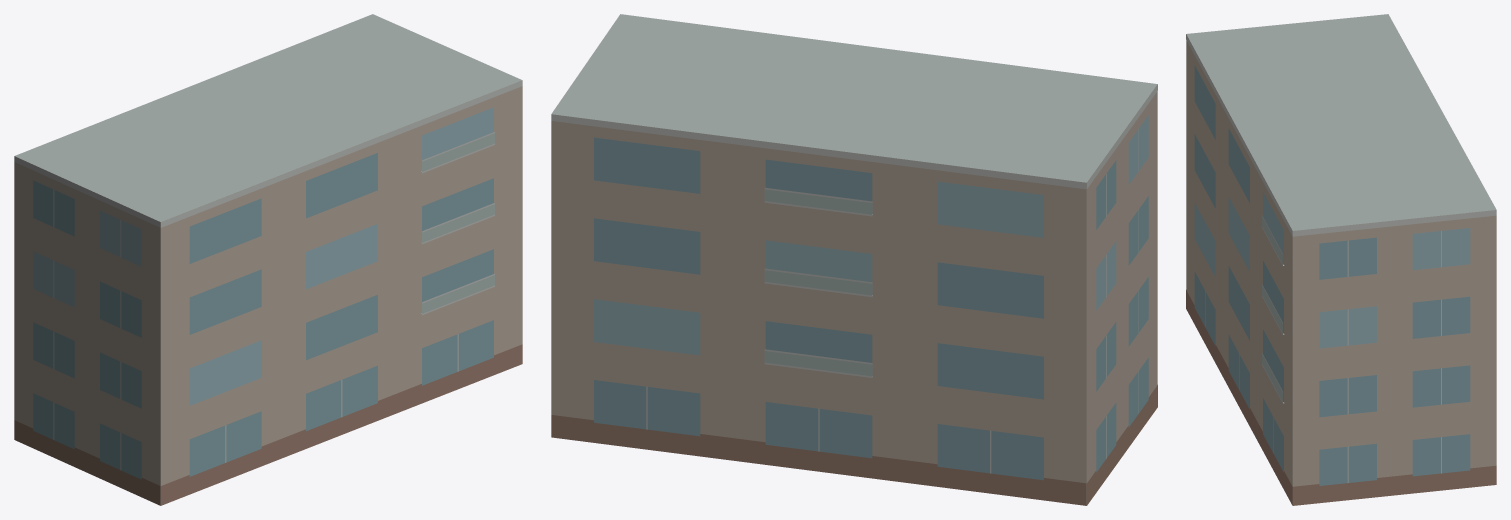
The model's file is survey-upis-32509308.glb.
The picture shows the model from 3 angles, left to right: view 1: azimuth 30°, elevation 25°; view 2: azimuth 150°, elevation 25°; view 3: azimuth 270°, elevation 25°; orthographic projection. The views are drawn at different scales.
Parts seen in each view (by area): view 1: survey-upis-32509308.tmp; view 2: survey-upis-32509308.tmp; view 3: survey-upis-32509308.tmp.
Part boxes in pixels (x1,y1,x2,y2): survey-upis-32509308.tmp: (14, 14, 522, 505); survey-upis-32509308.tmp: (551, 14, 1157, 505); survey-upis-32509308.tmp: (1186, 14, 1496, 505).
Bounding box in the file's own units: 20.16 × 11.9 × 12.19.
